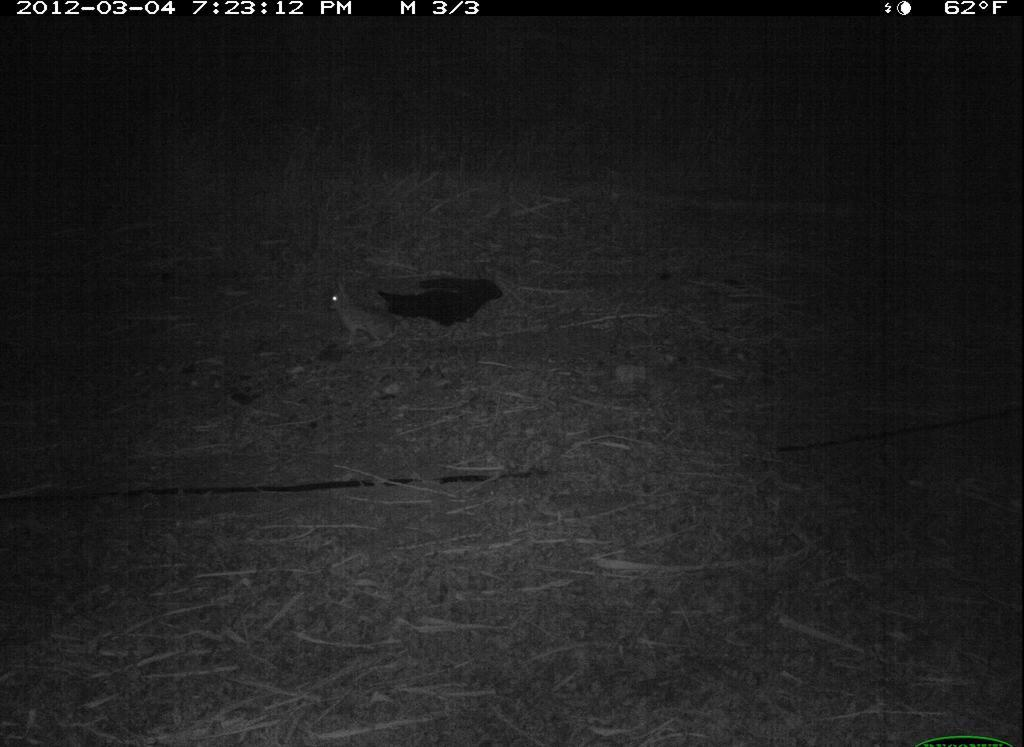rabbit: (322, 269, 409, 358)
